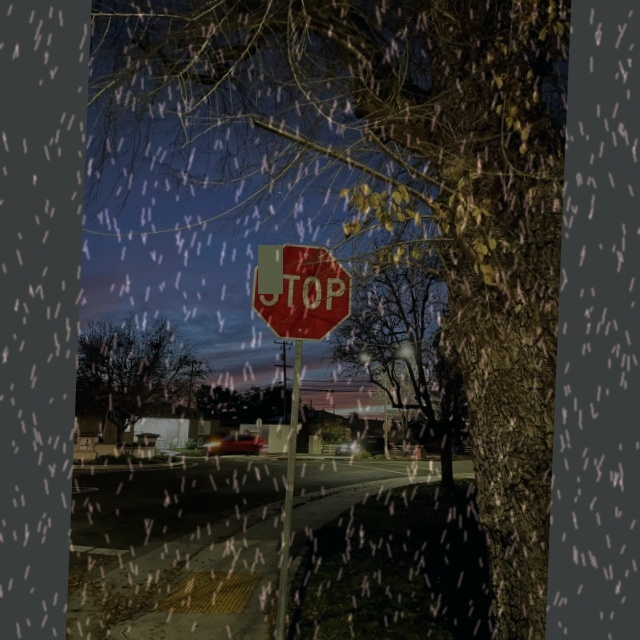Stop: (250, 243, 353, 345)
